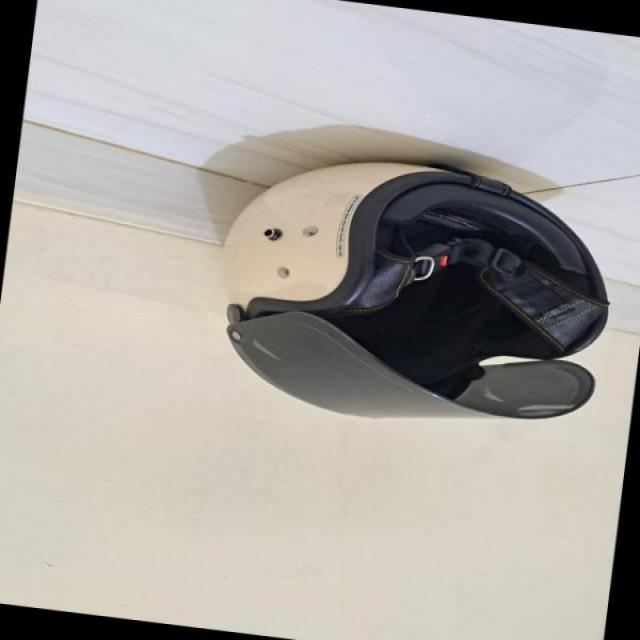Helmet: (217, 132, 611, 441)
